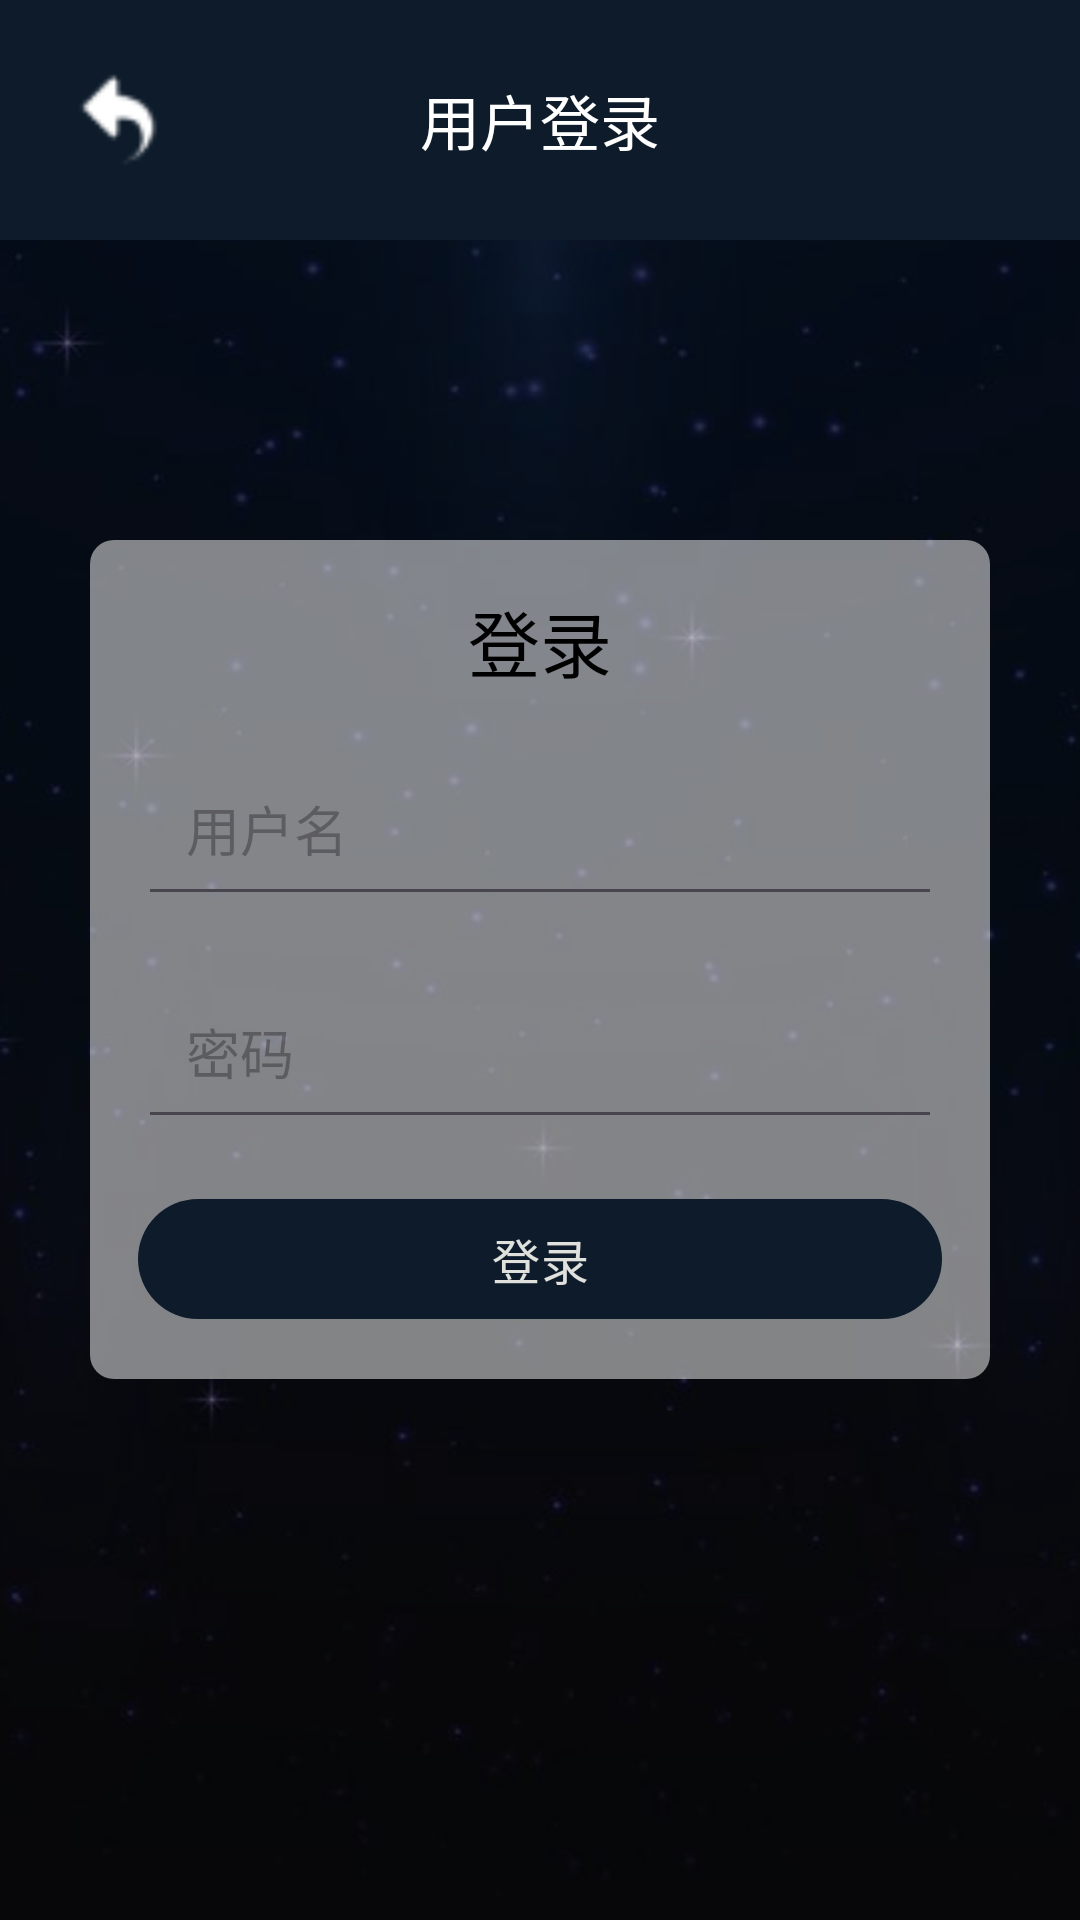

Icons on this 1080px x 1920px Android screen, each with its box as box=[x1, y1, x2, y2]:
返回: box=[82, 75, 156, 160]
